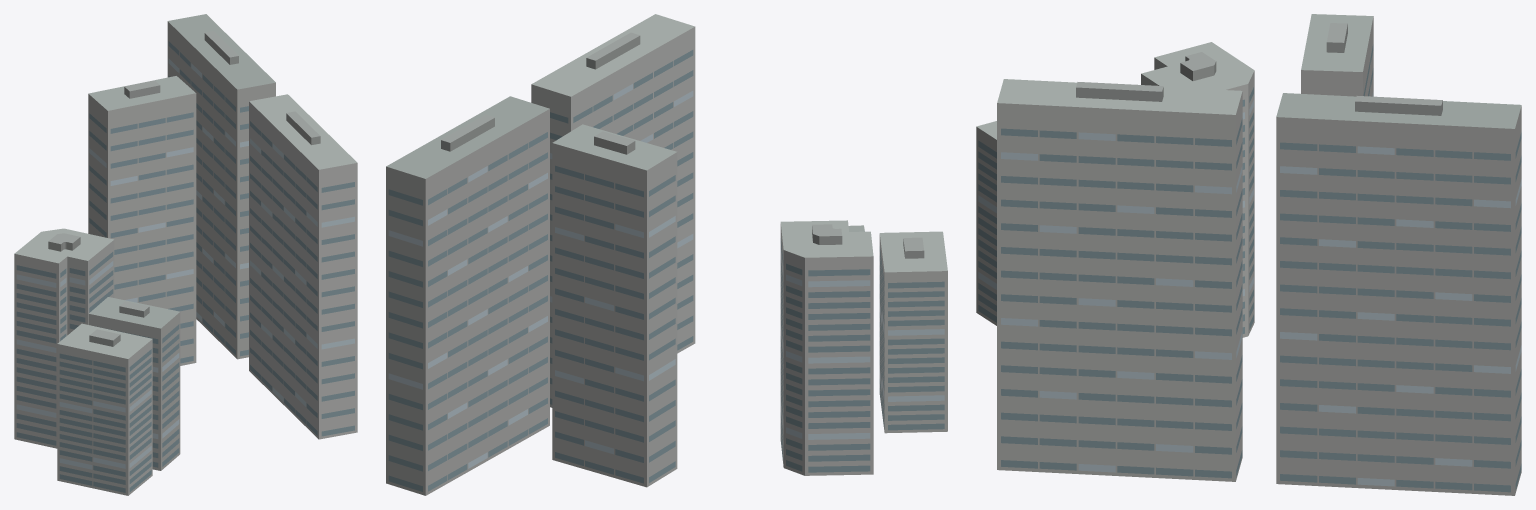
Rendered from apt-a15283807.glb.
3 views of the same model, side by side, from view 1: azimuth 30°, elevation 25°; view 2: azimuth 150°, elevation 25°; view 3: azimuth 270°, elevation 25° (orthographic). The views are drawn at different scales.
Parts seen in each view (by area): view 1: apt-a15283807; view 2: apt-a15283807; view 3: apt-a15283807.
Boxes of the visible parts, bbox=[...] form: apt-a15283807: bbox=[14, 14, 357, 495]; apt-a15283807: bbox=[386, 14, 947, 495]; apt-a15283807: bbox=[976, 14, 1521, 495].
Bounding box in the file's own units: 105 × 89 × 117.
